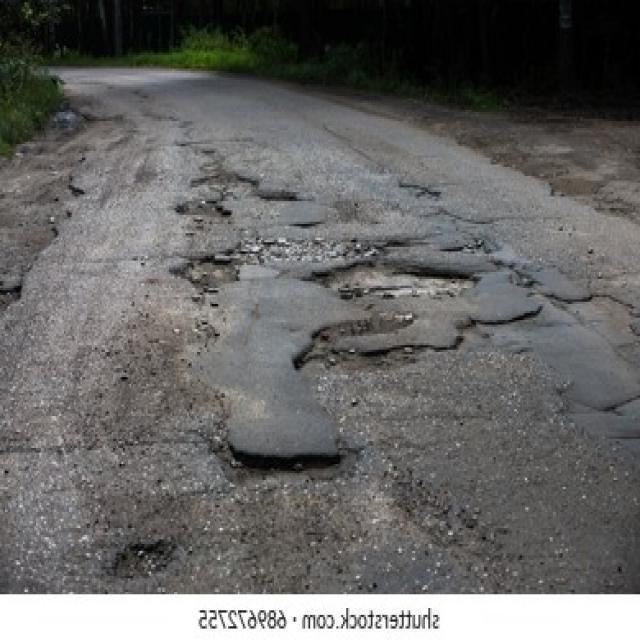pothole: (306, 263, 483, 302), (175, 247, 243, 293), (107, 537, 170, 578), (176, 201, 235, 220)
